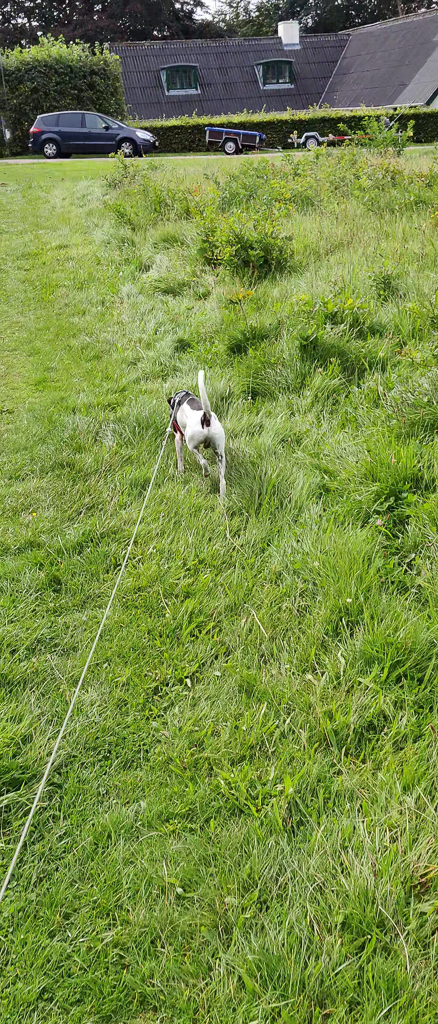Dog: (150, 362, 238, 513)
